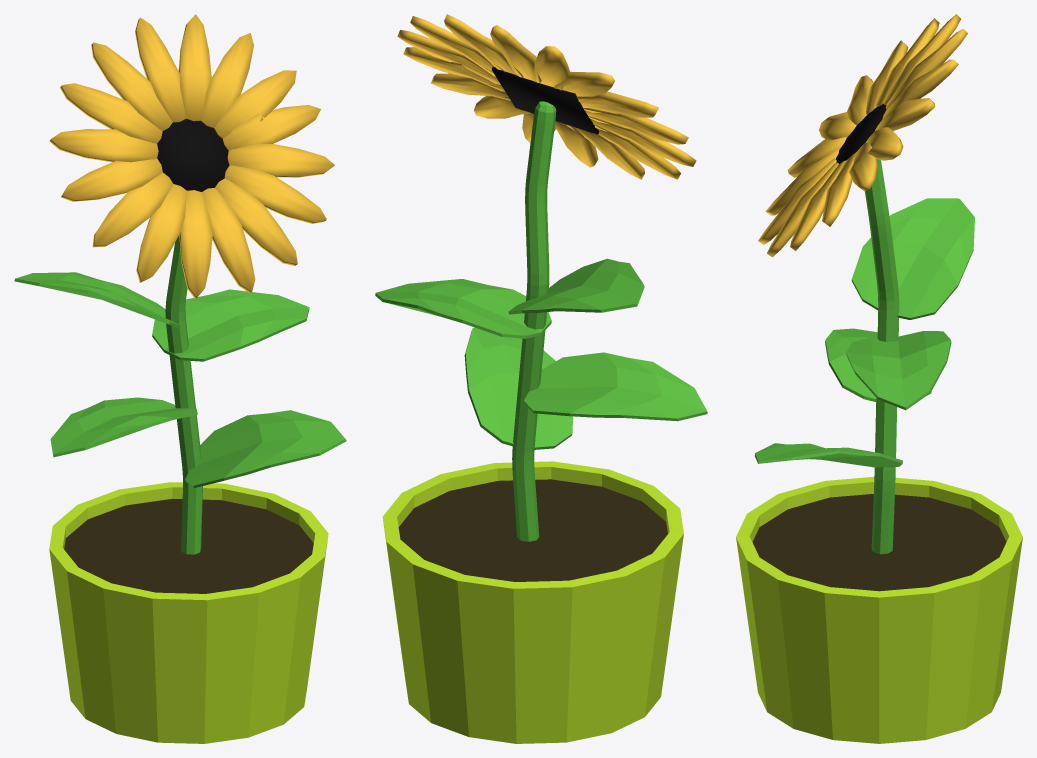
File: Prop_Homeplant_08.fbx
3 views of the same model, side by side, from view 1: azimuth 30°, elevation 25°; view 2: azimuth 150°, elevation 25°; view 3: azimuth 270°, elevation 25° (orthographic). The views are drawn at different scales.
Parts seen in each view (by area): view 1: Prop_Homeplant_08; view 2: Prop_Homeplant_08; view 3: Prop_Homeplant_08.
Part boxes in pixels (left/top/right/bottom): Prop_Homeplant_08: left=14, top=14, right=346, bottom=743; Prop_Homeplant_08: left=375, top=14, right=707, bottom=743; Prop_Homeplant_08: left=736, top=14, right=1022, bottom=743.
Bounding box in the file's own units: 46.19 × 101 × 39.97.
